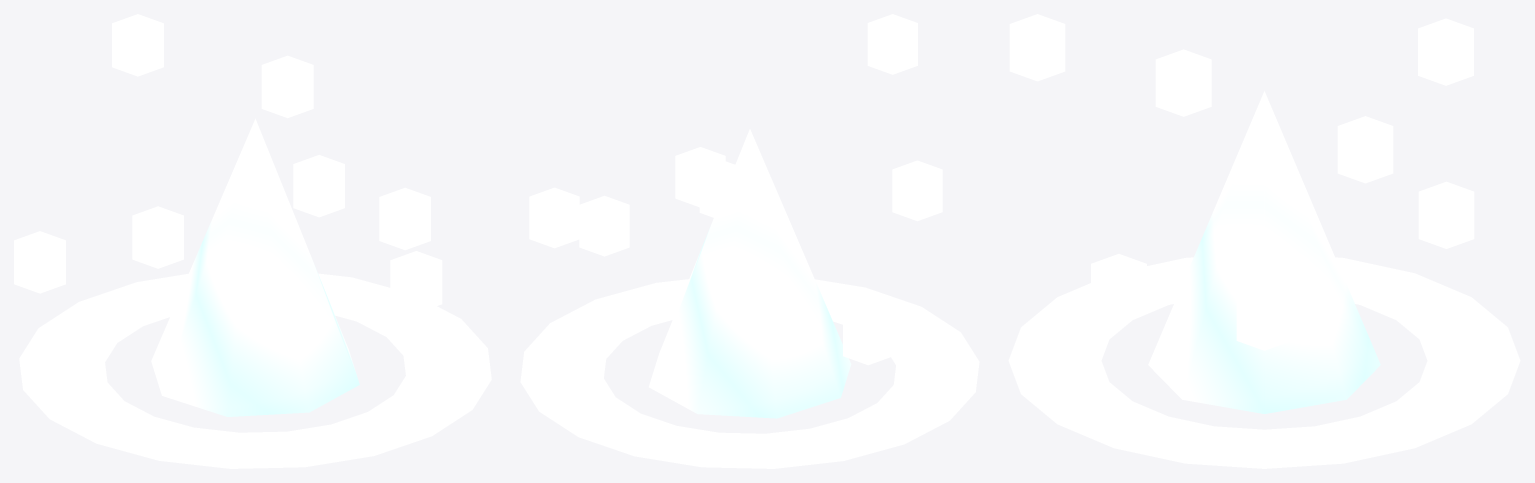
The model's file is xy_water_splash.glb.
3 renders of one model, left to right at view 1: azimuth 30°, elevation 25°; view 2: azimuth 150°, elevation 25°; view 3: azimuth 270°, elevation 25°, orthographic. The views are drawn at different scales.
Parts seen in each view (by area): view 1: Splash; view 2: Splash; view 3: Splash.
Part boxes in pixels (left/top/right/bottom): Splash: left=14, top=14, right=491, bottom=468; Splash: left=520, top=14, right=979, bottom=468; Splash: left=1008, top=14, right=1520, bottom=468.
Size of the model in its own units: 2.2 by 1.56 by 2.2.
